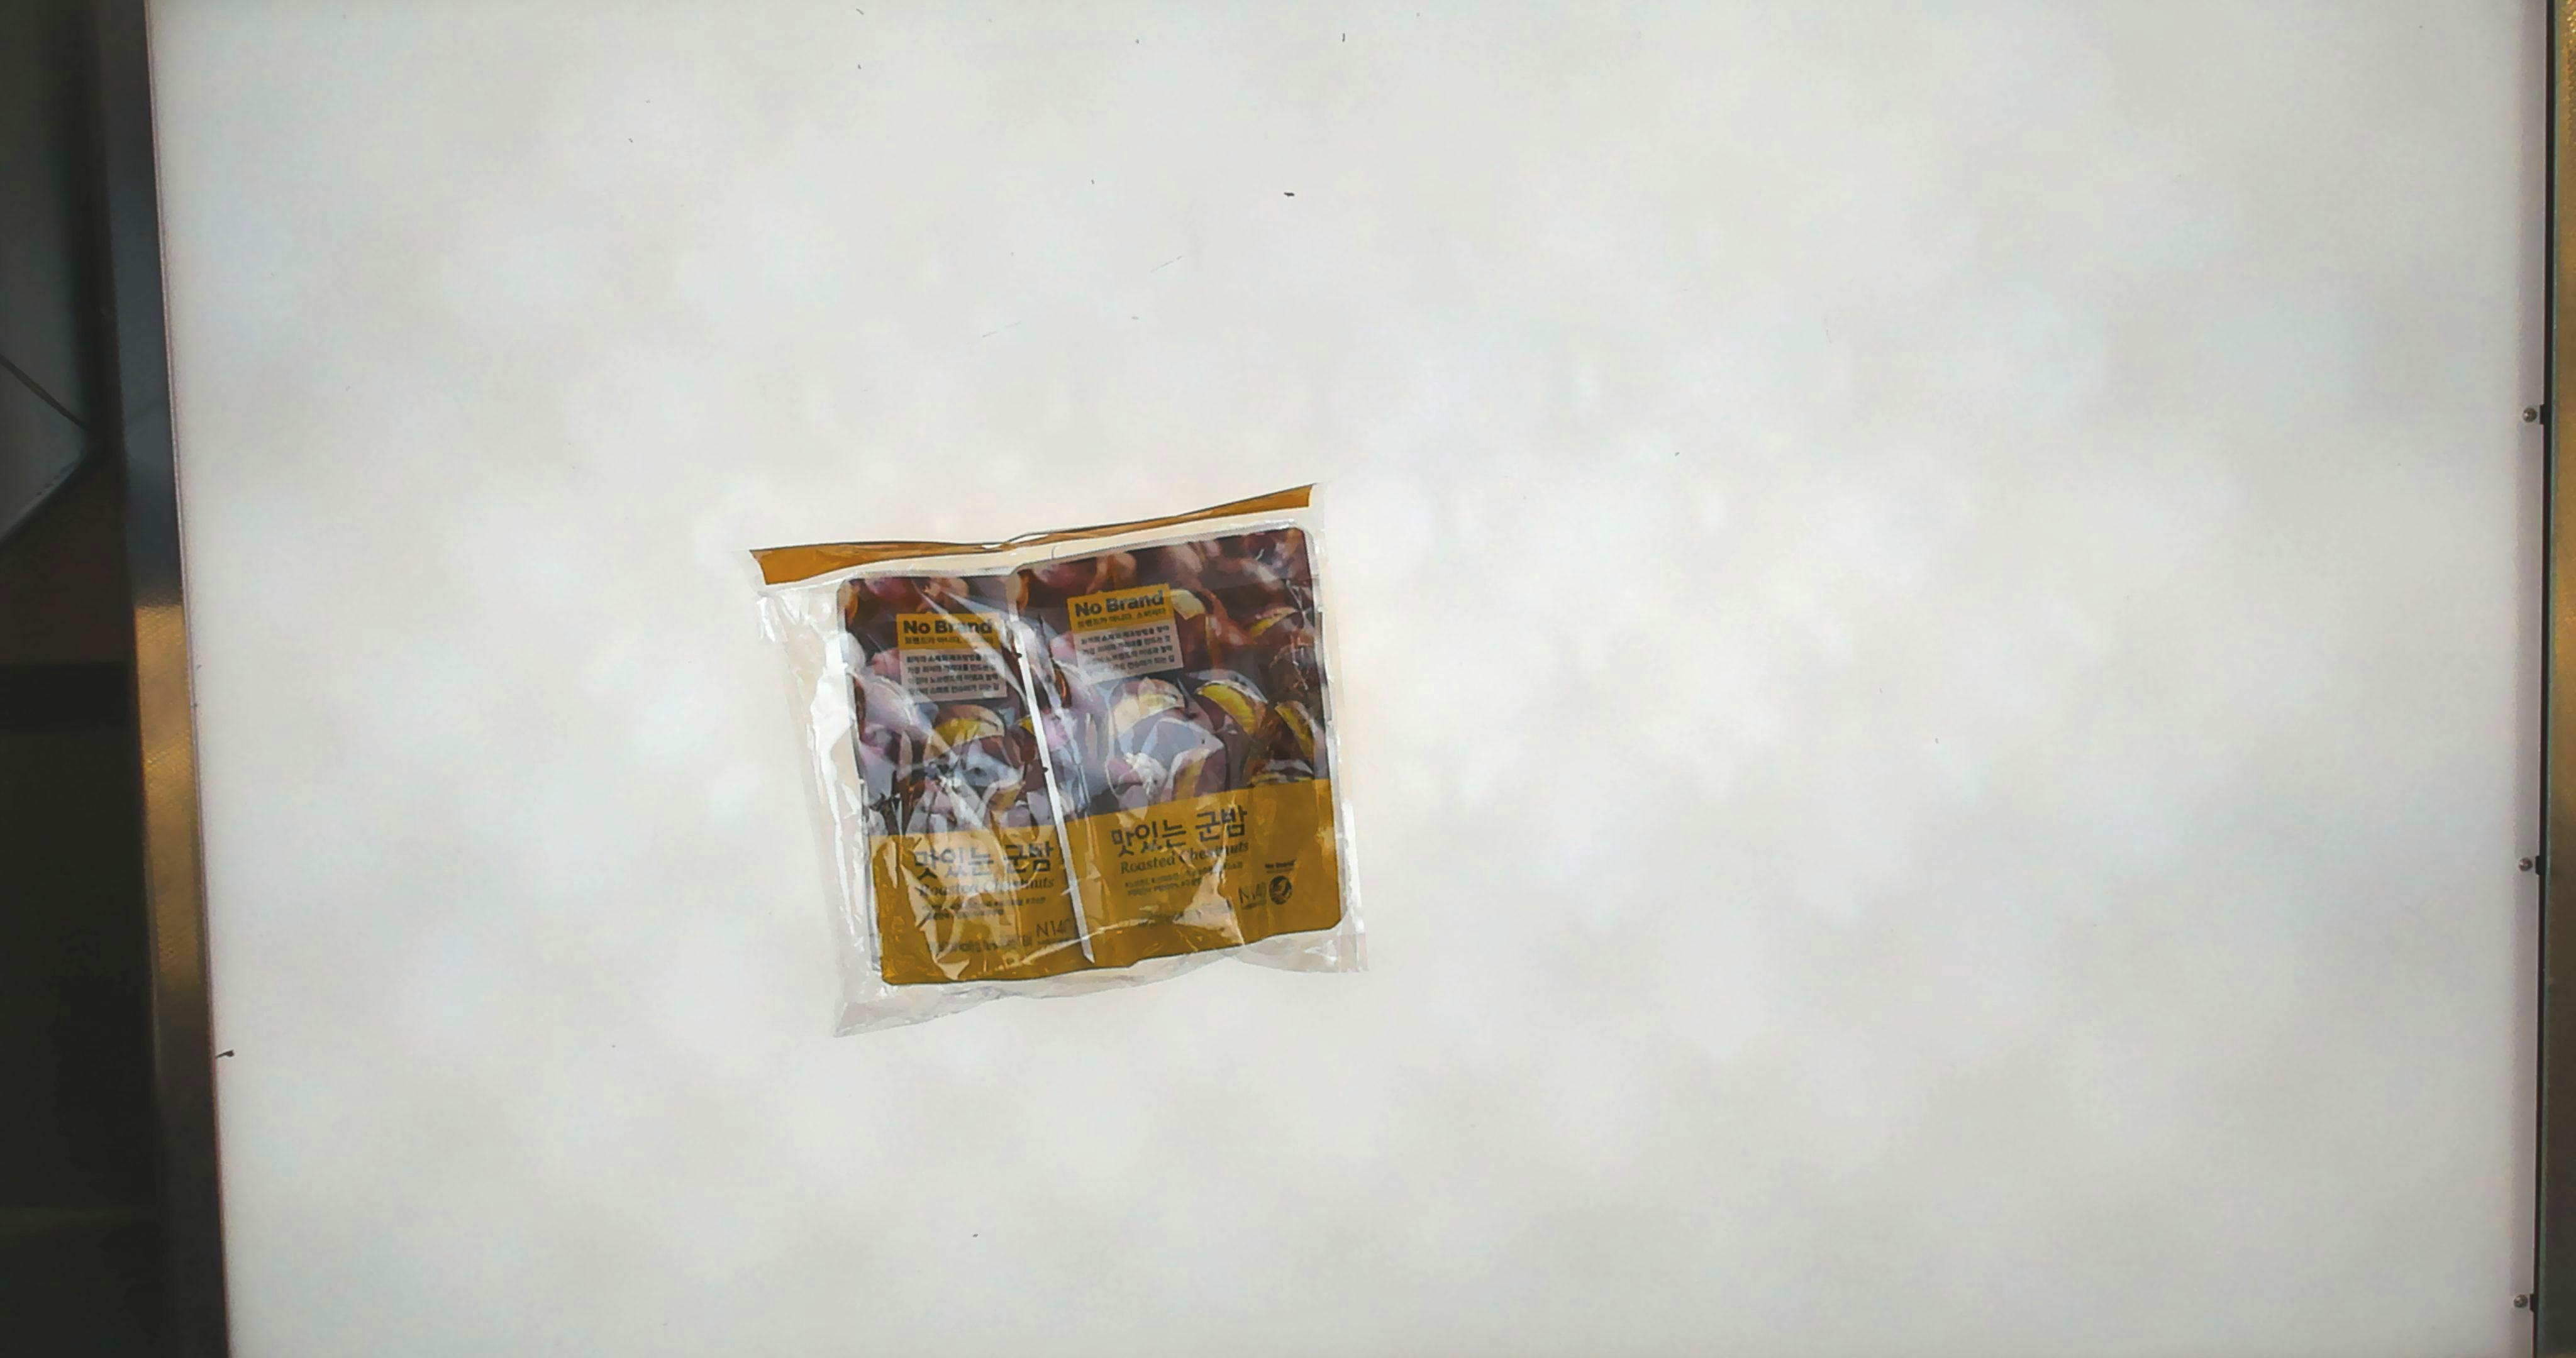product: (690, 446, 1436, 1053)
